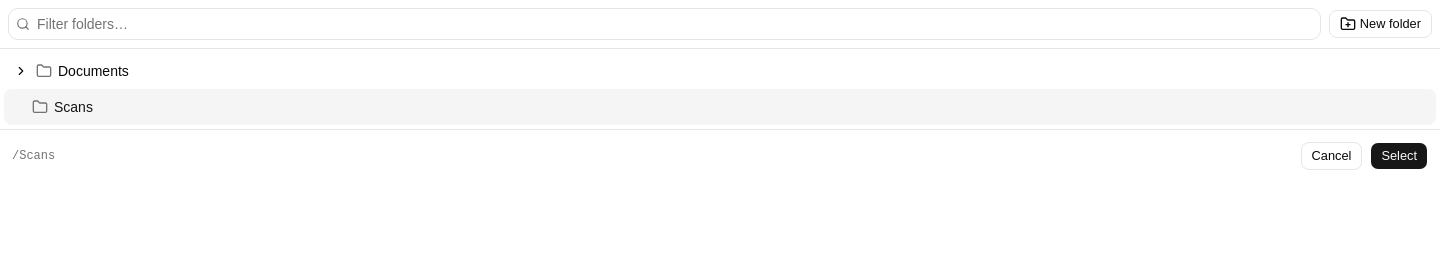
FolderPickerBody › expanding a node lazily fetches and renders its children
expect the list item "Documents" is shown: met, box [12,62,129,80]
expect the list item "Finance" is not shown: met
Click the button named "Expand Documents": click(21, 71) [12,62,30,80]
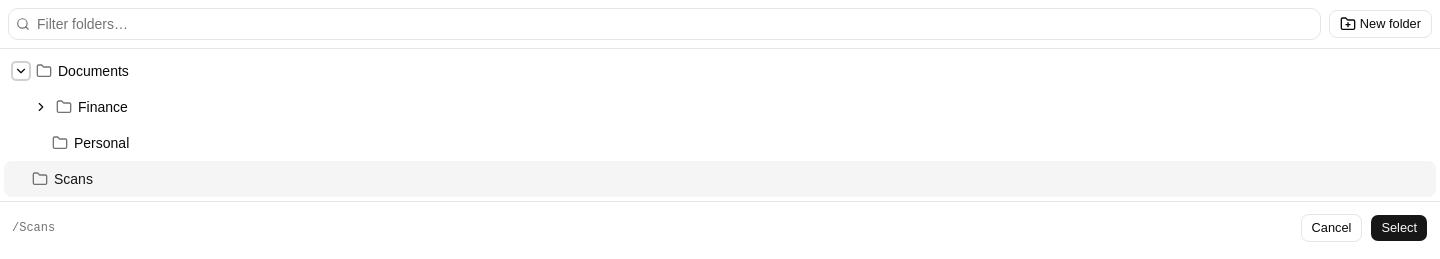
expect the list item "Finance" is shown: met, box [32,98,128,116]
expect the list item "Personal" is shown: met, box [52,135,129,151]
